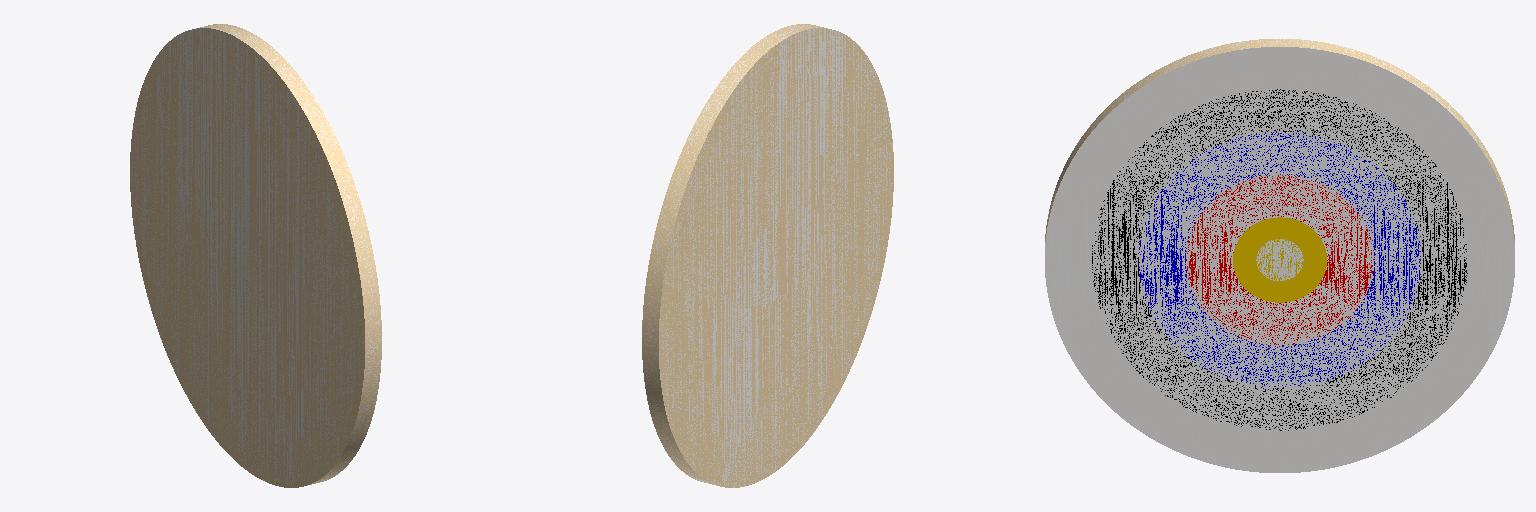
Rendered from target.obj.
The picture shows the model from 3 angles: view 1: azimuth 30°, elevation 25°; view 2: azimuth 150°, elevation 25°; view 3: azimuth 270°, elevation 25°; orthographic projection.
Visible parts, largest first — view 1: SketchUp.001_ID2; view 2: SketchUp.001_ID2; view 3: SketchUp.004_ID32, SketchUp.009_ID66, SketchUp.005_ID38, SketchUp.006_ID46, SketchUp.002_ID14, SketchUp.007_ID52, SketchUp.008_ID58, SketchUp.010_ID72, SketchUp.003_ID24, SketchUp.001_ID2, SketchUp.011_ID78.
Part boxes in pixels (left/top/right/bottom): SketchUp.001_ID2: left=130, top=24, right=381, bottom=487; SketchUp.001_ID2: left=642, top=24, right=893, bottom=487; SketchUp.004_ID32: left=1045, top=47, right=1514, bottom=472; SketchUp.009_ID66: left=1068, top=68, right=1491, bottom=451; SketchUp.005_ID38: left=1092, top=89, right=1467, bottom=430; SketchUp.006_ID46: left=1115, top=111, right=1444, bottom=408; SketchUp.002_ID14: left=1139, top=132, right=1420, bottom=387; SketchUp.007_ID52: left=1162, top=153, right=1397, bottom=366; SketchUp.008_ID58: left=1186, top=175, right=1373, bottom=344; SketchUp.010_ID72: left=1209, top=196, right=1350, bottom=323; SketchUp.003_ID24: left=1233, top=217, right=1326, bottom=302; SketchUp.001_ID2: left=1045, top=39, right=1514, bottom=241; SketchUp.011_ID78: left=1256, top=239, right=1303, bottom=280.
Bounding box in the file's own units: 0.05 × 1.22 × 1.22.